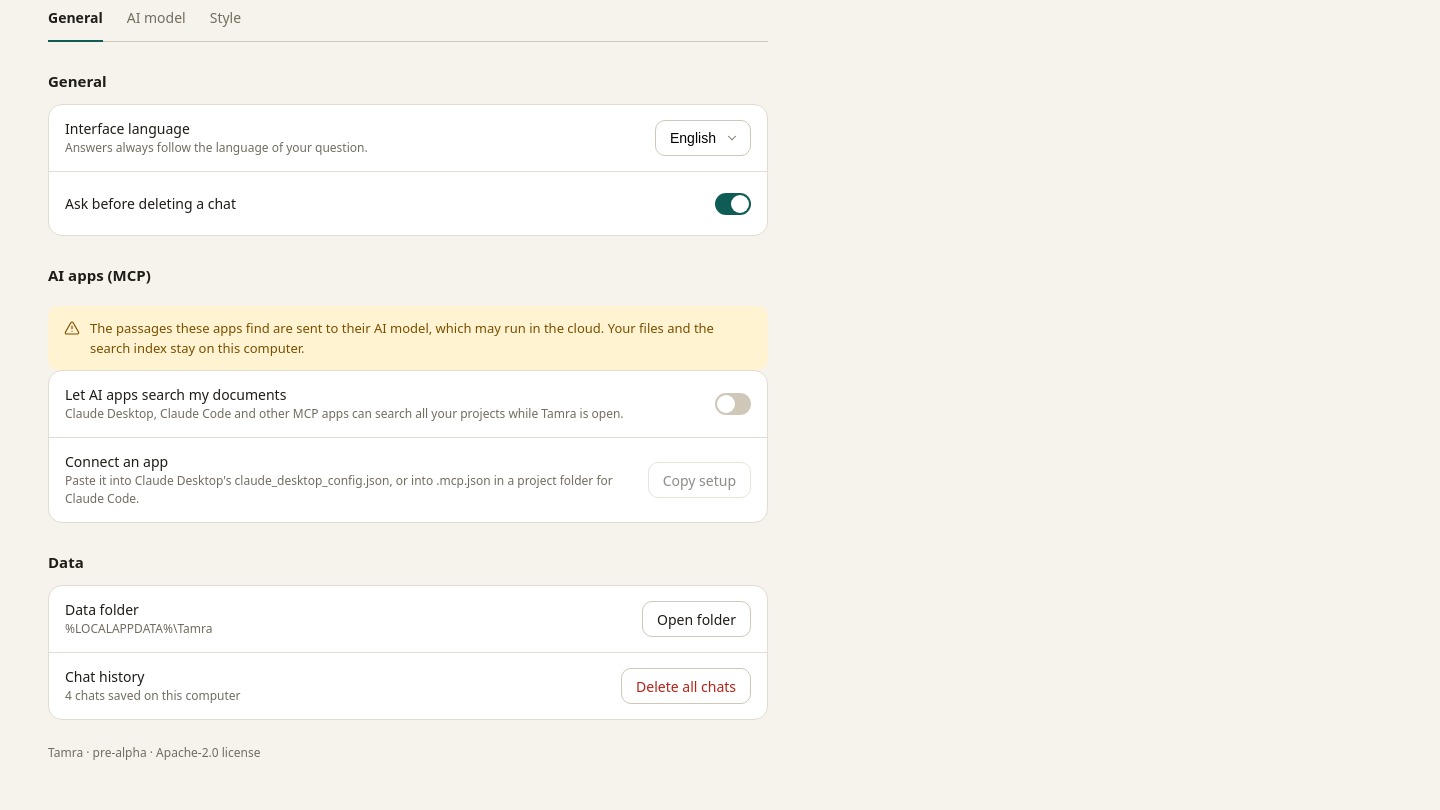
Test: General tab › deletes all chats only after a confirmation
(page scrolled)
What coordinates should you click on to do the following:
click the button "Delete all chats"
I would click on:
 (686, 686)
Its box is [621,668,751,704].
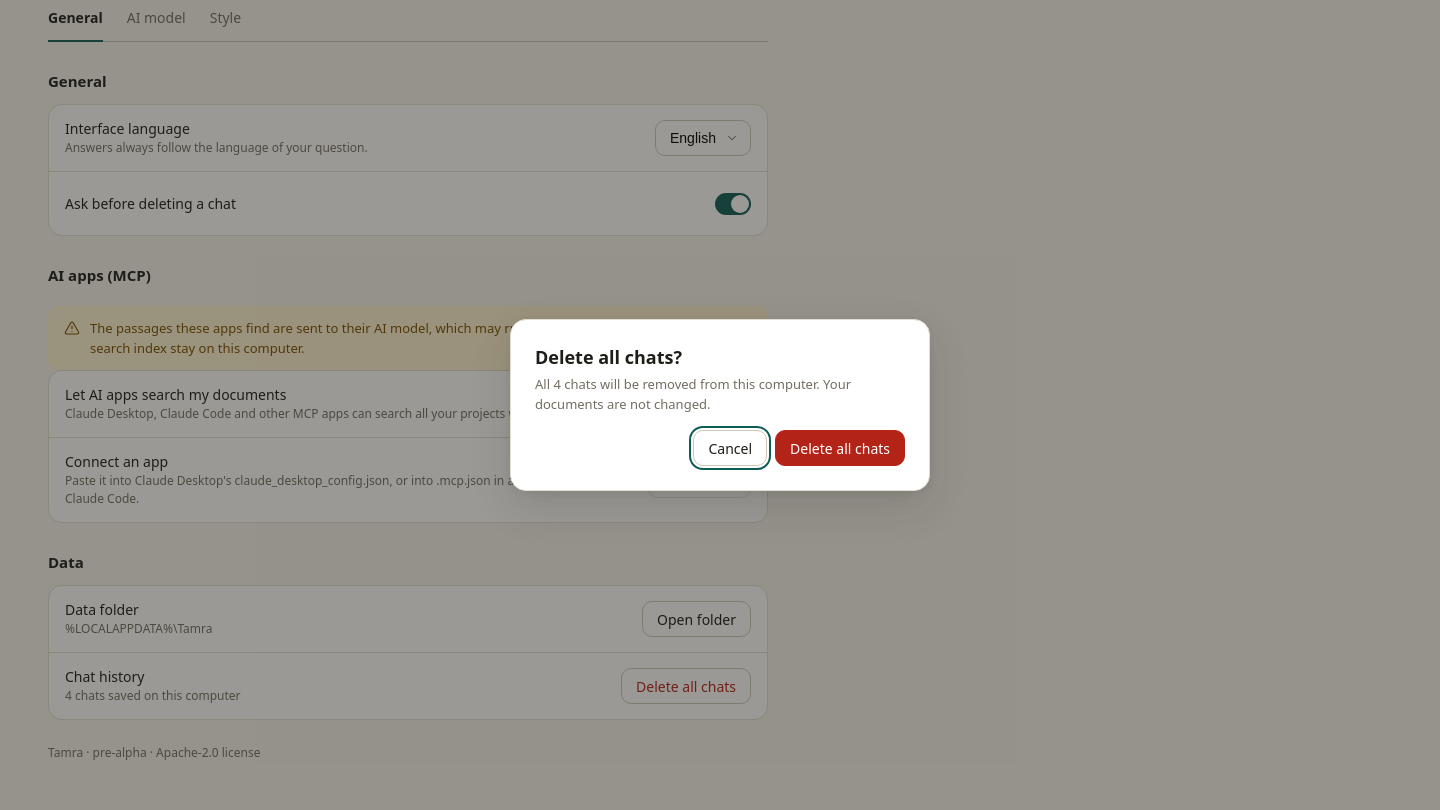
Result: the dialog shows "Delete all chats?" at [535,345,682,369]
Result: the dialog shows "All 4 chats will be removed from this computer." at [535,375,851,413]
What coordinates should you click on to do the following:
click the button "Cancel"
I would click on:
 (730, 448)
Its box is [694,430,767,466].
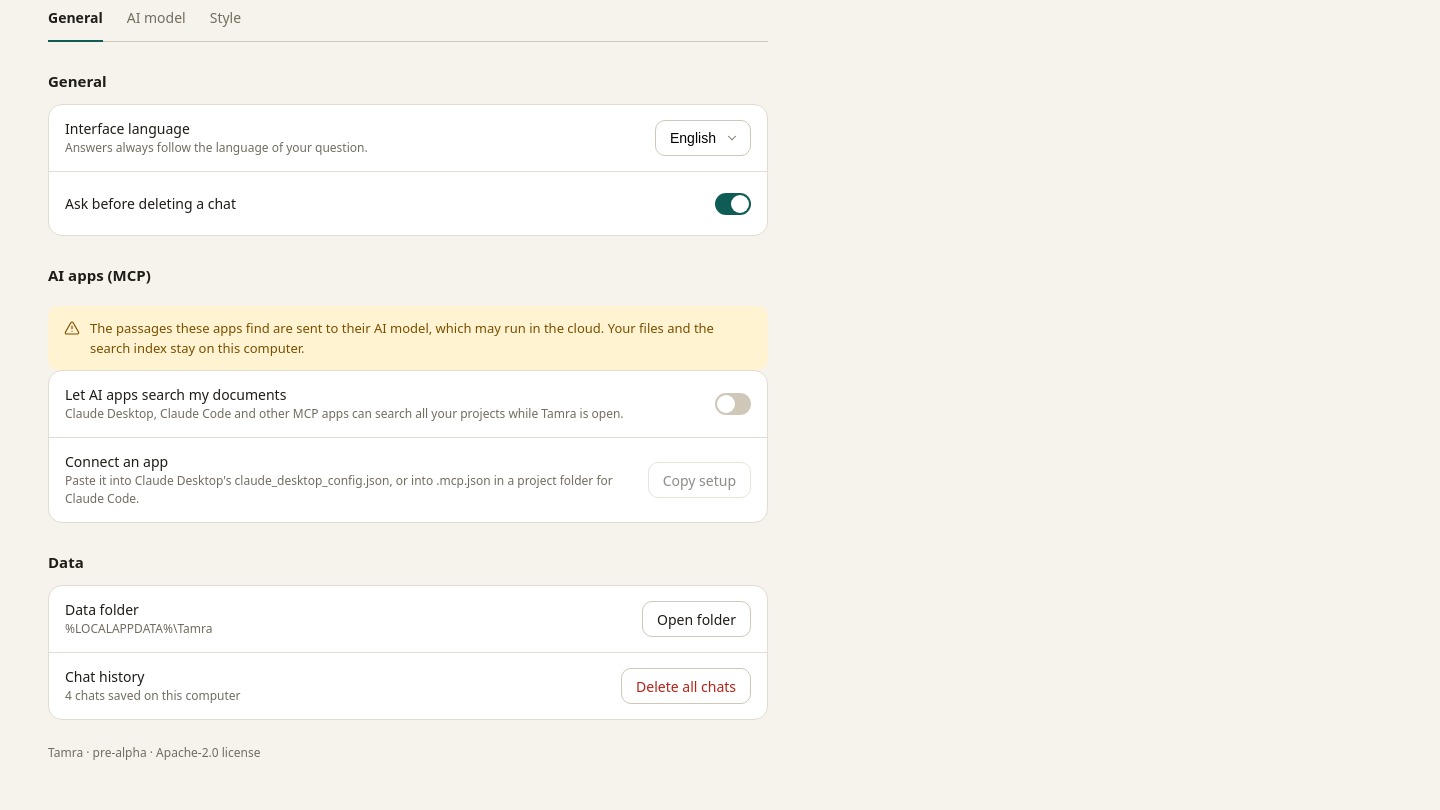
Result: the dialog is gone
What coordinates should you click on to do the following:
click the button "Delete all chats"
I would click on:
 (686, 686)
Its box is [621,668,751,704].
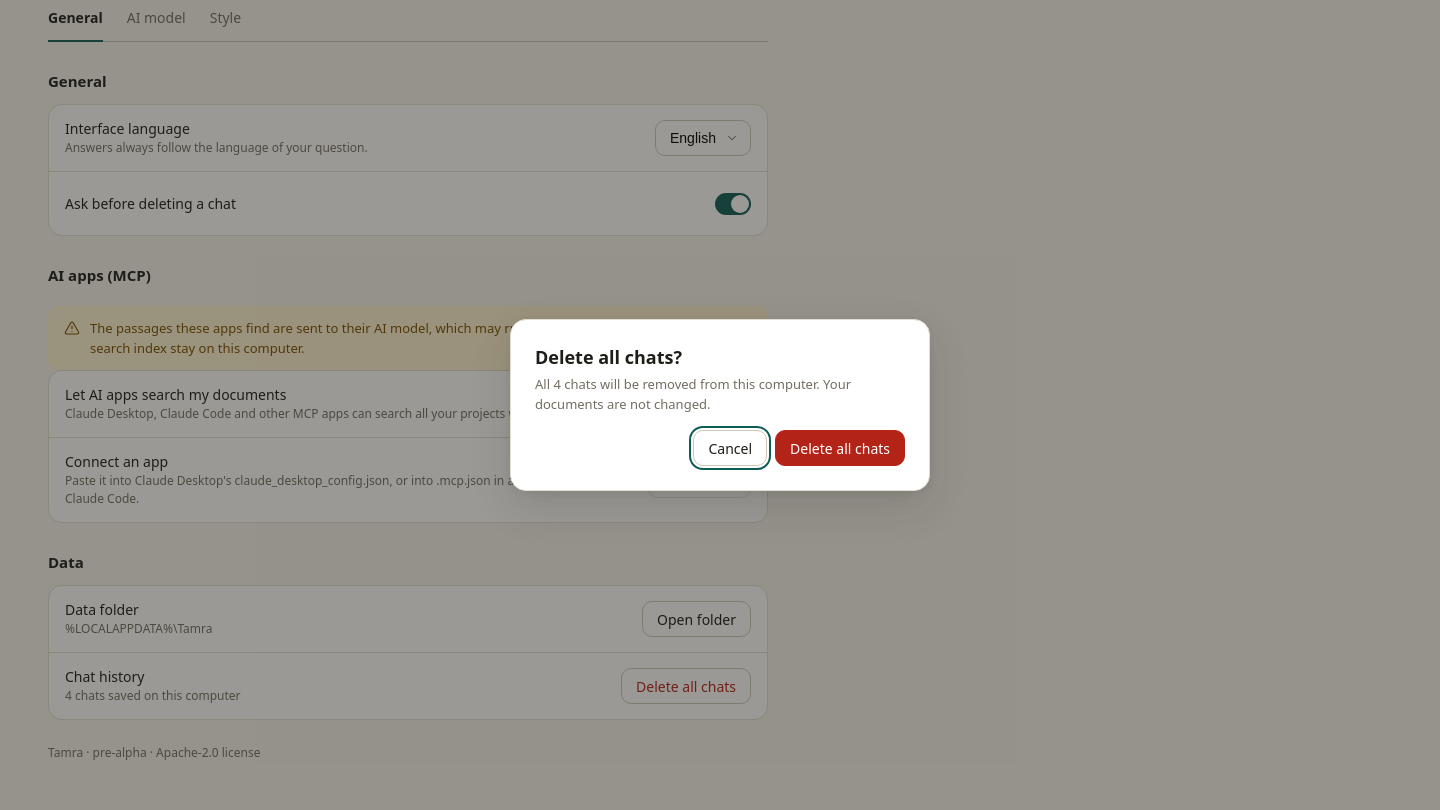
What coordinates should you click on to do the following:
click the button "Delete all chats"
I would click on:
 (840, 448)
Its box is [775,430,905,466].
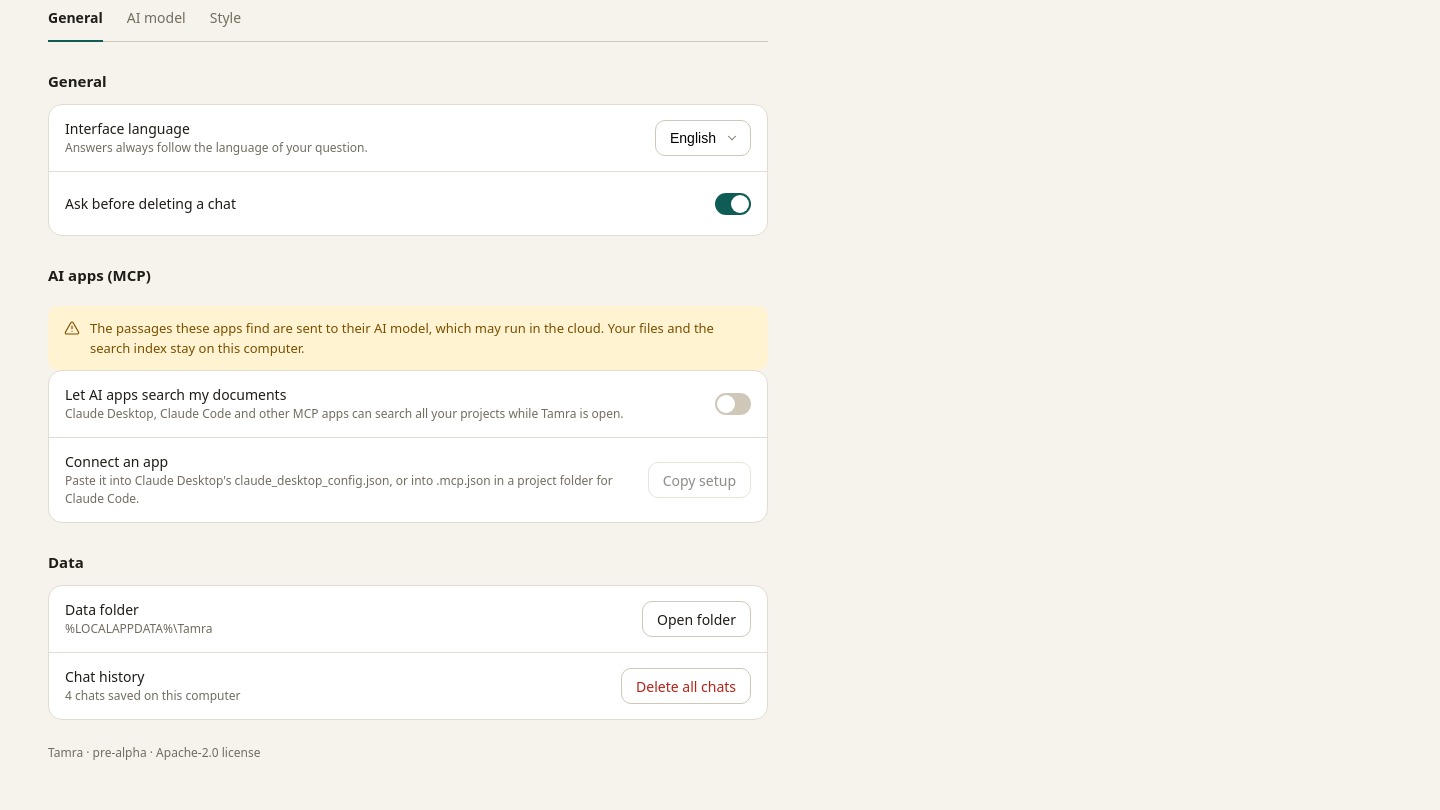
Result: the dialog is gone
